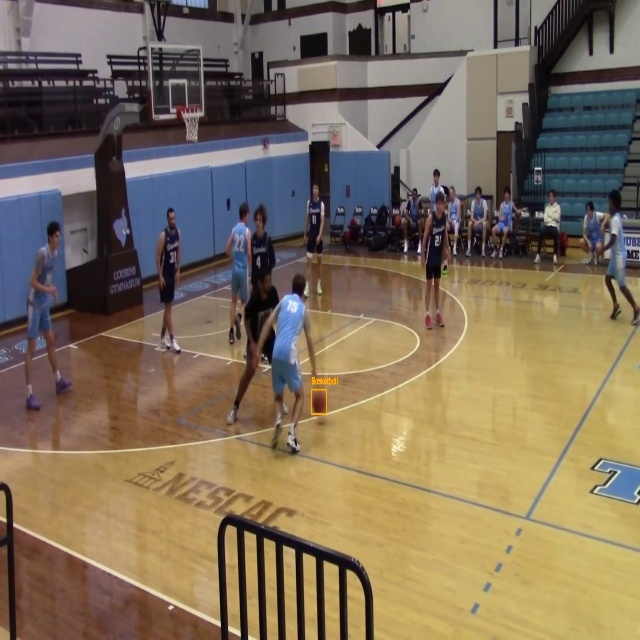Basketball: (311, 390, 326, 414)
